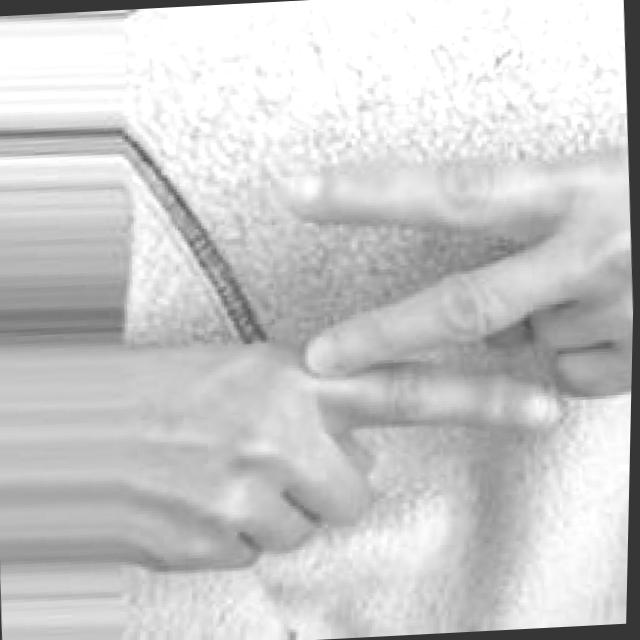Z: (146, 145, 637, 574)
